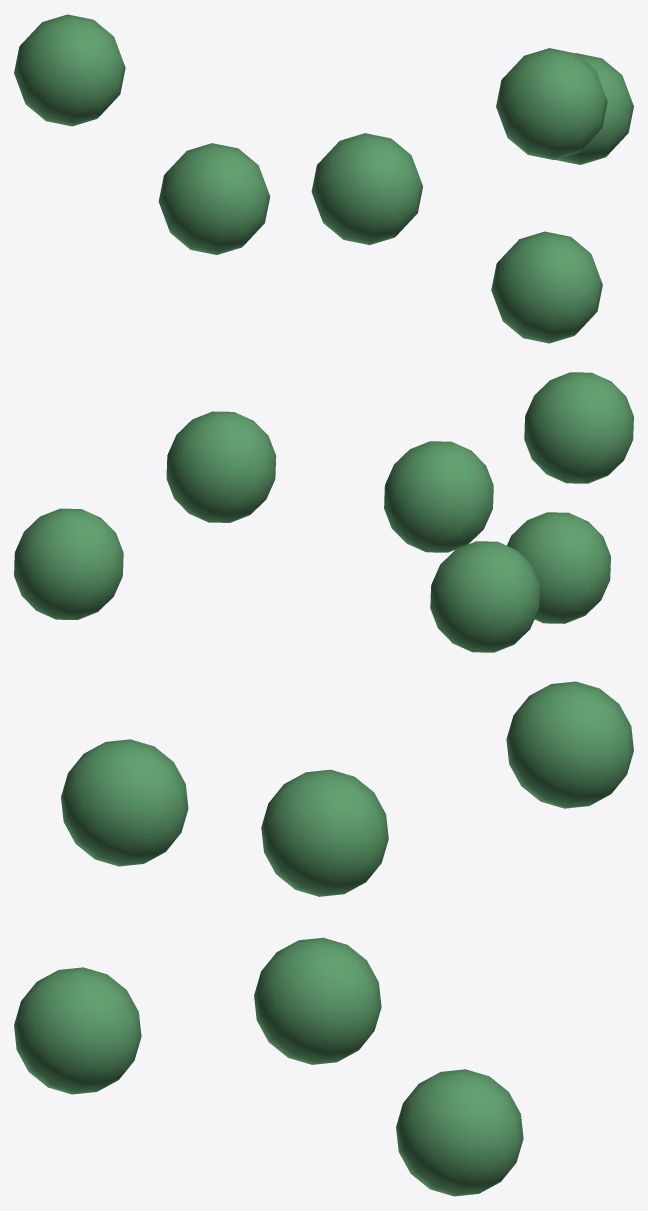
3 renders of one model, top to bottom at view 1: azimuth 30°, elevation 25°; view 2: azimuth 150°, elevation 25°; view 3: azimuth 270°, elevation 25°, orthographic. The views are drawn at different scales.
Parts seen in each view (by area): view 1: 髂总内侧淋巴结; view 2: 髂总内侧淋巴结; view 3: 髂总内侧淋巴结.
Boxes of the visible parts, bbox=[...] form: 髂总内侧淋巴结: bbox=[14, 14, 633, 343]; 髂总内侧淋巴结: bbox=[14, 372, 633, 652]; 髂总内侧淋巴结: bbox=[14, 681, 633, 1196].
Size of the model in its own units: 0.0219 by 0.00846 by 0.0185.
